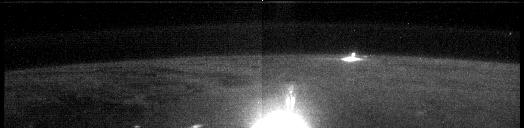positive: (282, 82, 298, 111)
